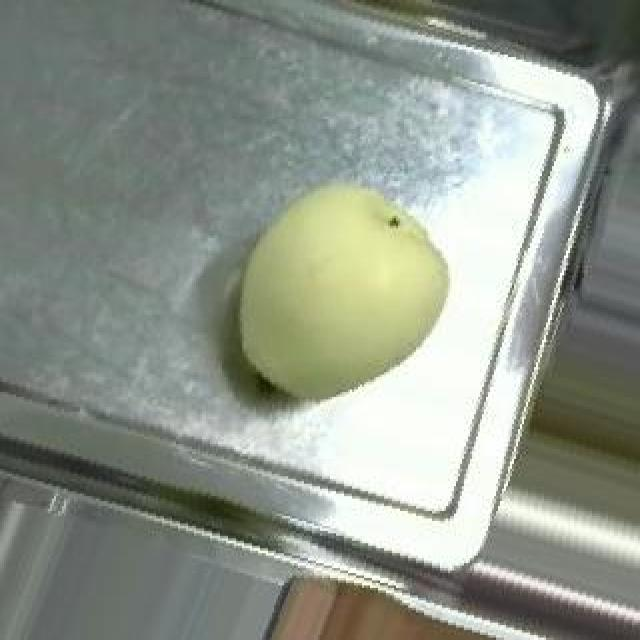apple: (169, 140, 484, 436)
